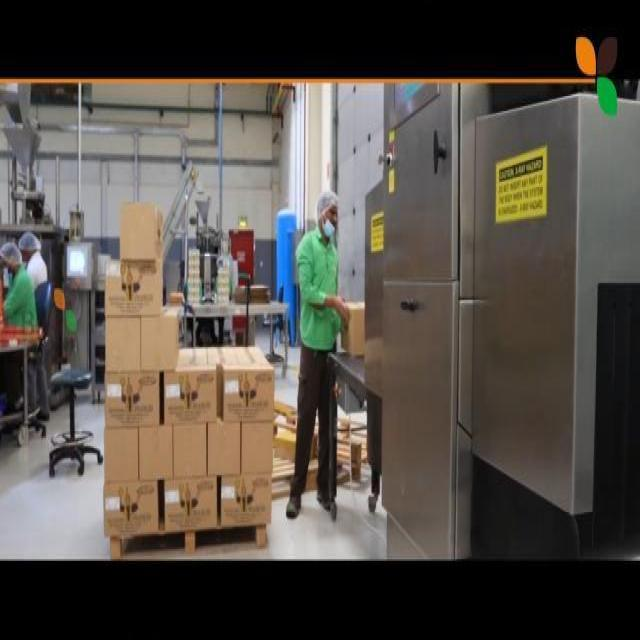bare_hand: (329, 293, 352, 332)
